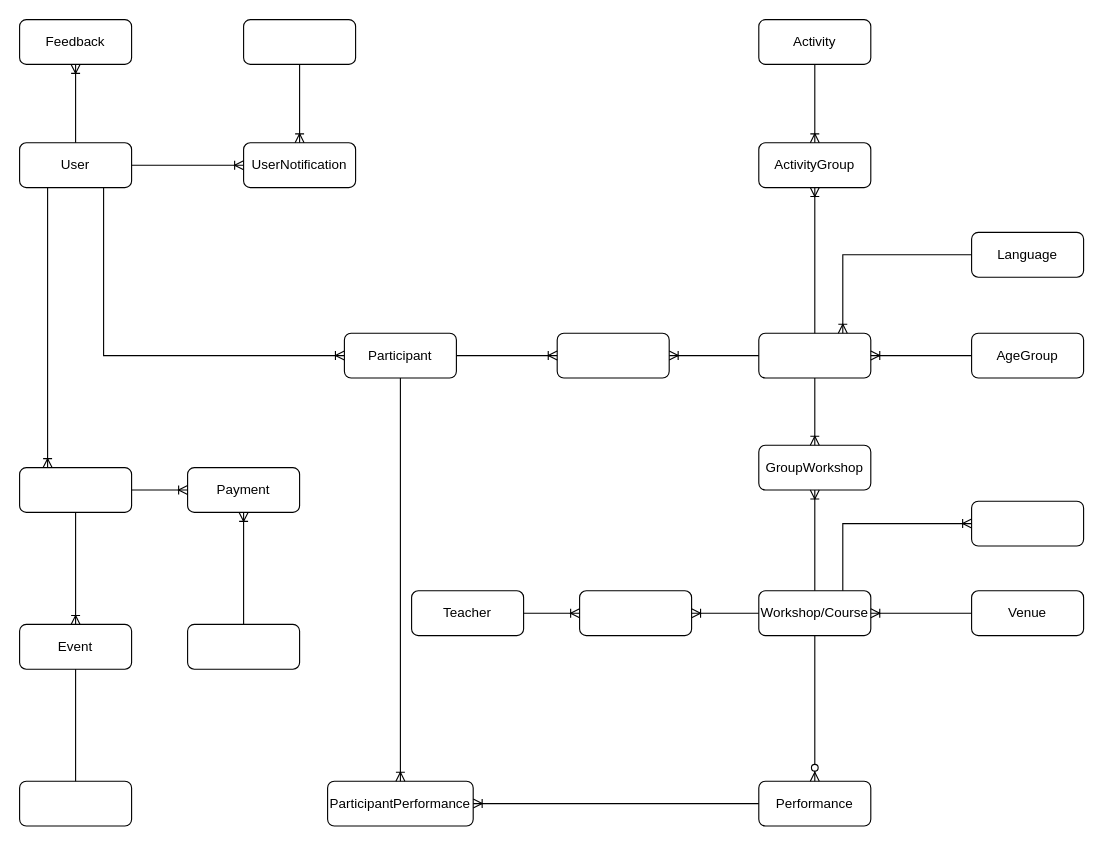
Some shapes in this 1103 by 846 pixel diagram are drawn without their labels. The box of each missing label's shape, as (x1, y1, x2, y2) in pixels:
Contract: (18, 780, 132, 826)
File: (970, 500, 1084, 546)
Group: (758, 332, 871, 378)
Notification: (242, 18, 356, 64)
Order: (18, 466, 132, 512)
ParticipantGroup: (556, 332, 669, 378)
Payment Method: (186, 623, 300, 669)
TeacherWorkshop: (578, 590, 692, 636)
